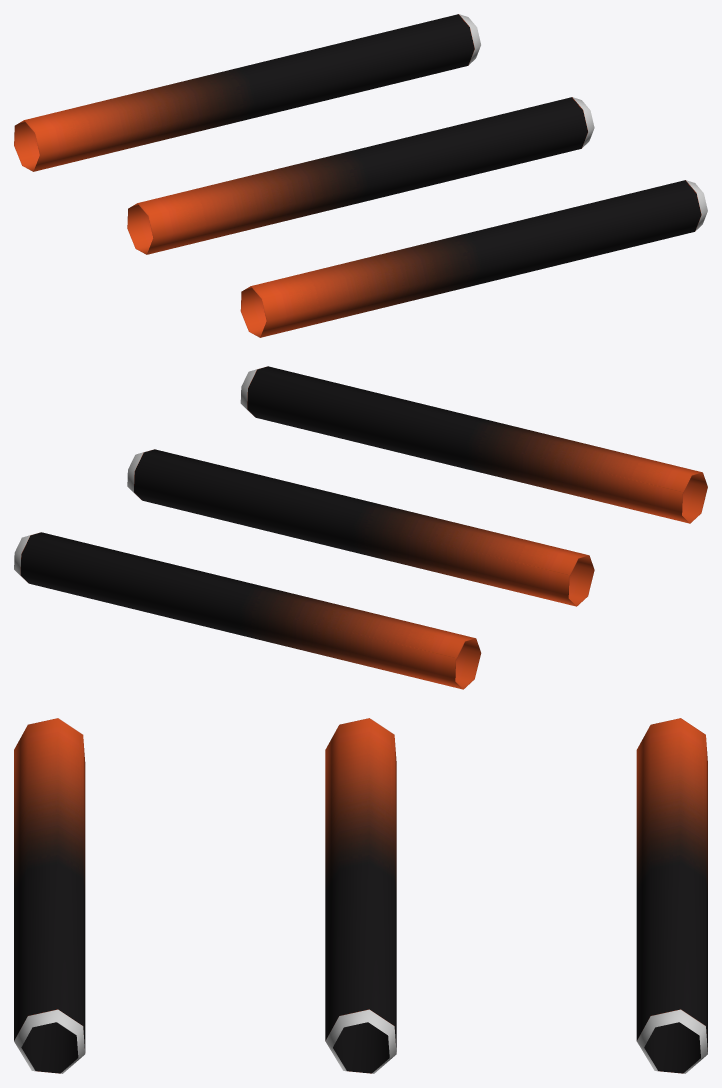
The model's file is Chamber10_MovingPlatforms_Struts.fbx.
3 views of the same model, one above another, from view 1: azimuth 30°, elevation 25°; view 2: azimuth 150°, elevation 25°; view 3: azimuth 270°, elevation 25° (orthographic). The views are drawn at different scales.
Visible parts, largest first — view 1: Camber_10_MovingPlatforms.001; view 2: Camber_10_MovingPlatforms.001; view 3: Camber_10_MovingPlatforms.001.
Boxes of the visible parts, bbox=[...] form: Camber_10_MovingPlatforms.001: bbox=[14, 14, 707, 337]; Camber_10_MovingPlatforms.001: bbox=[14, 366, 707, 689]; Camber_10_MovingPlatforms.001: bbox=[14, 718, 707, 1073].
Bounding box in the file's own units: 551 × 544 × 55.63.
